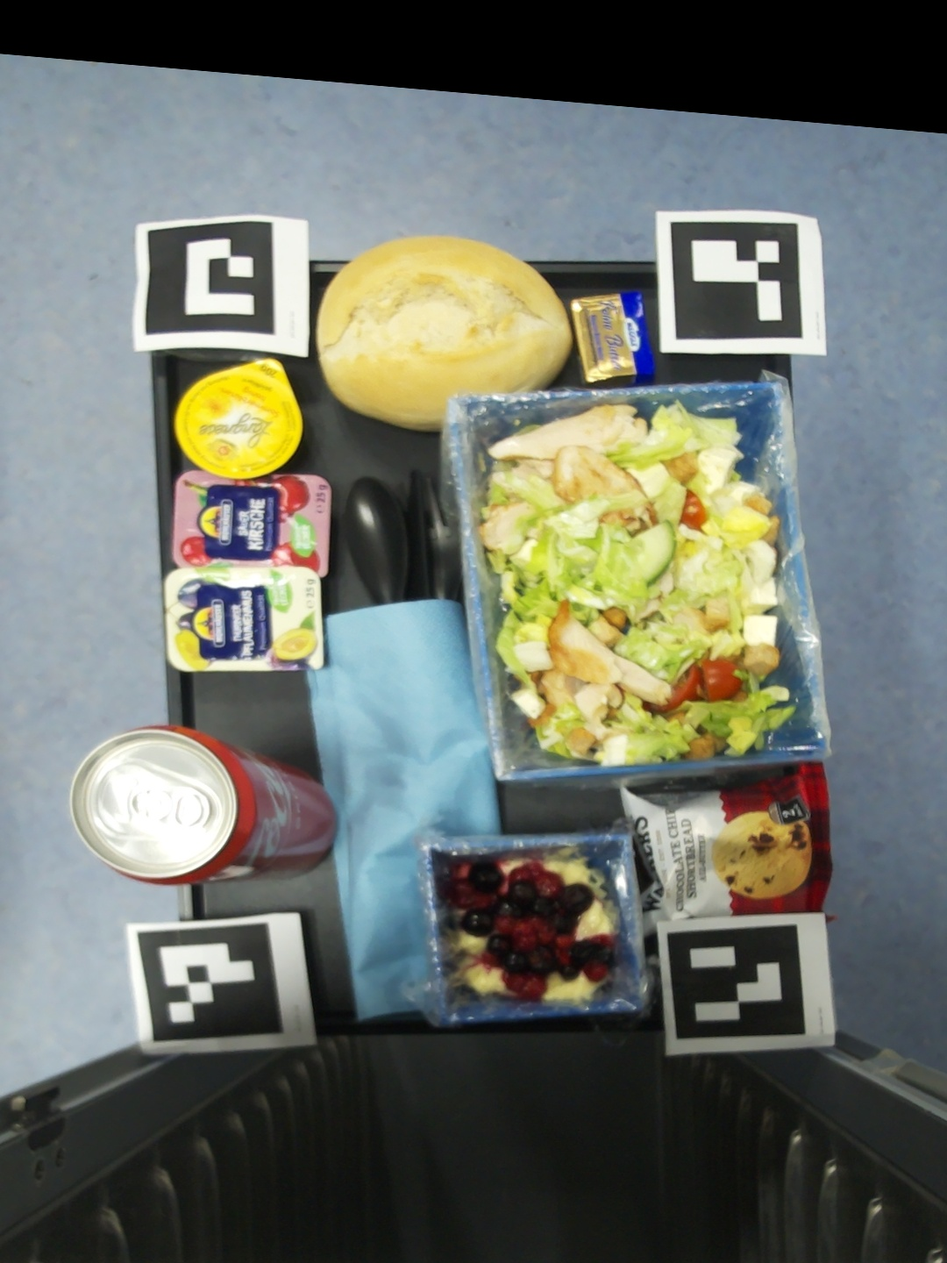bread_roll: (315, 237, 572, 431)
butter: (571, 290, 657, 388)
cherry_jam: (173, 470, 332, 577)
cola: (69, 726, 338, 884)
cookie: (619, 761, 833, 939)
honey: (174, 357, 303, 479)
plum_jam: (164, 566, 324, 673)
salad_main: (476, 401, 795, 766)
vanilla_pudding_with_fruits: (445, 846, 618, 1002)
